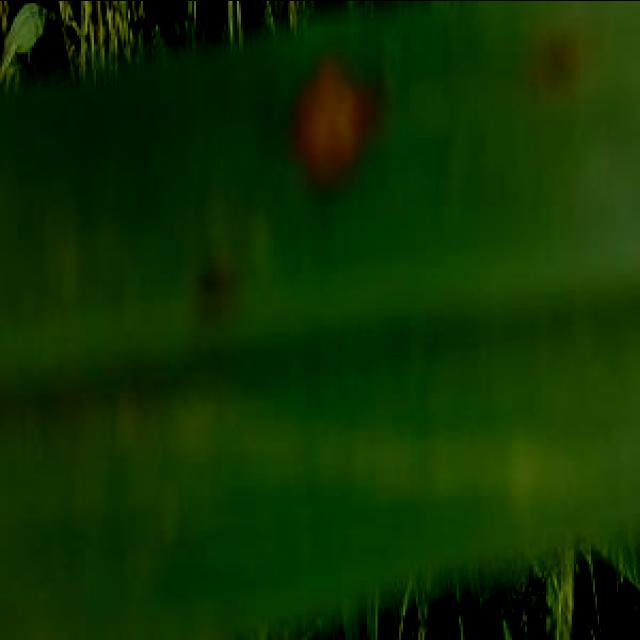Brown_Spot: (273, 61, 403, 179)
